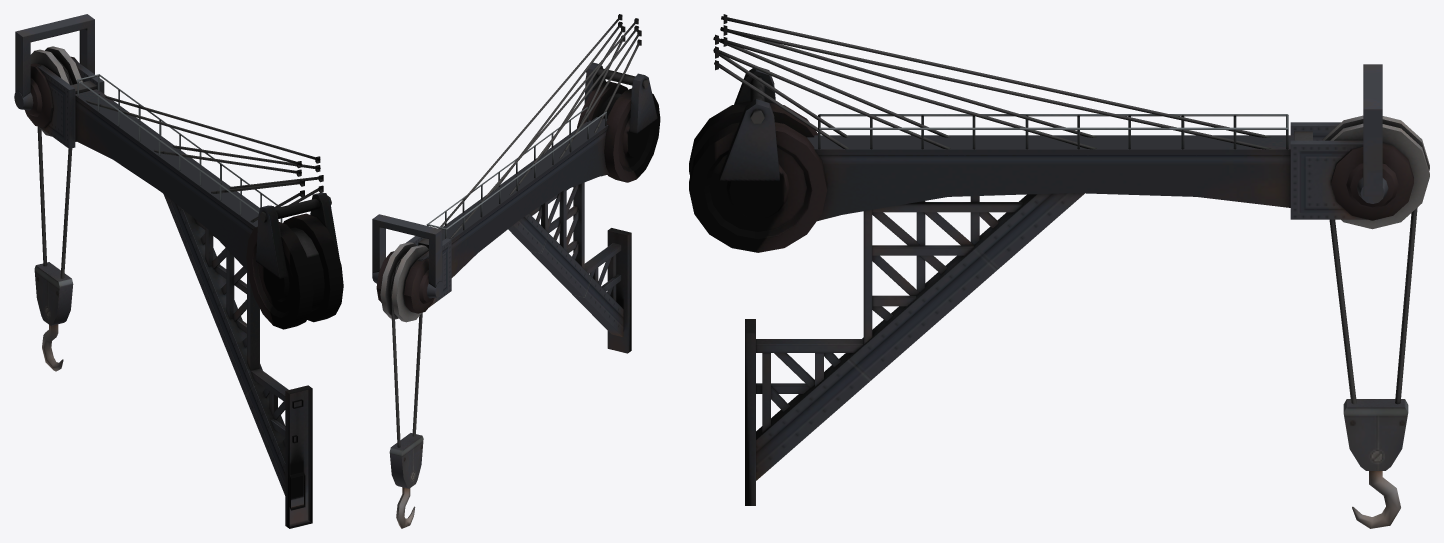
Rendered from Build01CF_Sm.obj.
The picture shows the model from 3 angles, left to right: view 1: azimuth 30°, elevation 25°; view 2: azimuth 150°, elevation 25°; view 3: azimuth 270°, elevation 25°; orthographic projection. The views are drawn at different scales.
Visible parts, largest first — view 1: Build01CF_Sm; view 2: Build01CF_Sm; view 3: Build01CF_Sm.
Part boxes in pixels (x1,y1,x2,y2): Build01CF_Sm: (14,14,343,528); Build01CF_Sm: (372,14,660,528); Build01CF_Sm: (689,14,1429,528).
Size of the model in its own units: 225 by 1177 by 1555.
Materials: 1 (1 with a texture image).
